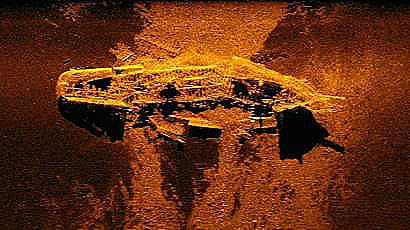ship: (54, 55, 347, 145)
